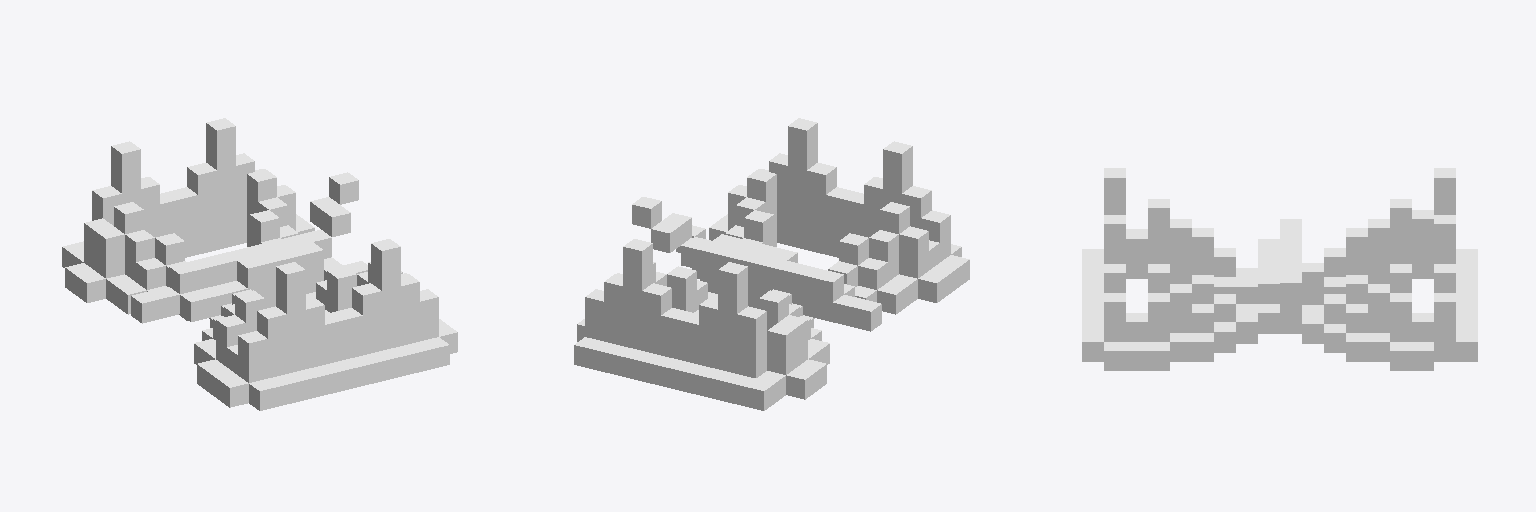
Rendered from Trap-(Armed).obj.
3 views of the same model, side by side, from view 1: azimuth 30°, elevation 25°; view 2: azimuth 150°, elevation 25°; view 3: azimuth 270°, elevation 25° (orthographic).
Visible parts, largest first — view 1: object 1; view 2: object 1; view 3: object 1.
Boxes of the visible parts, x1=… form: object 1: x1=62, y1=118, x2=457, y2=410; object 1: x1=574, y1=118, x2=969, y2=410; object 1: x1=1082, y1=168, x2=1477, y2=370.
Size of the model in its own units: 1.2 by 0.6 by 1.8.